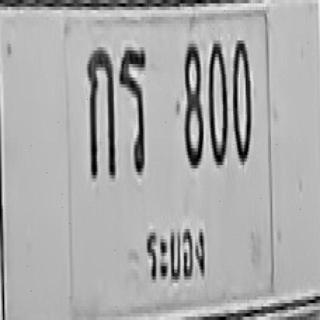A01: (86, 42, 115, 177)
A35: (118, 44, 146, 172)
N00: (208, 37, 228, 165), (232, 37, 252, 162)
N08: (182, 40, 204, 165)
P53: (142, 218, 209, 292)
